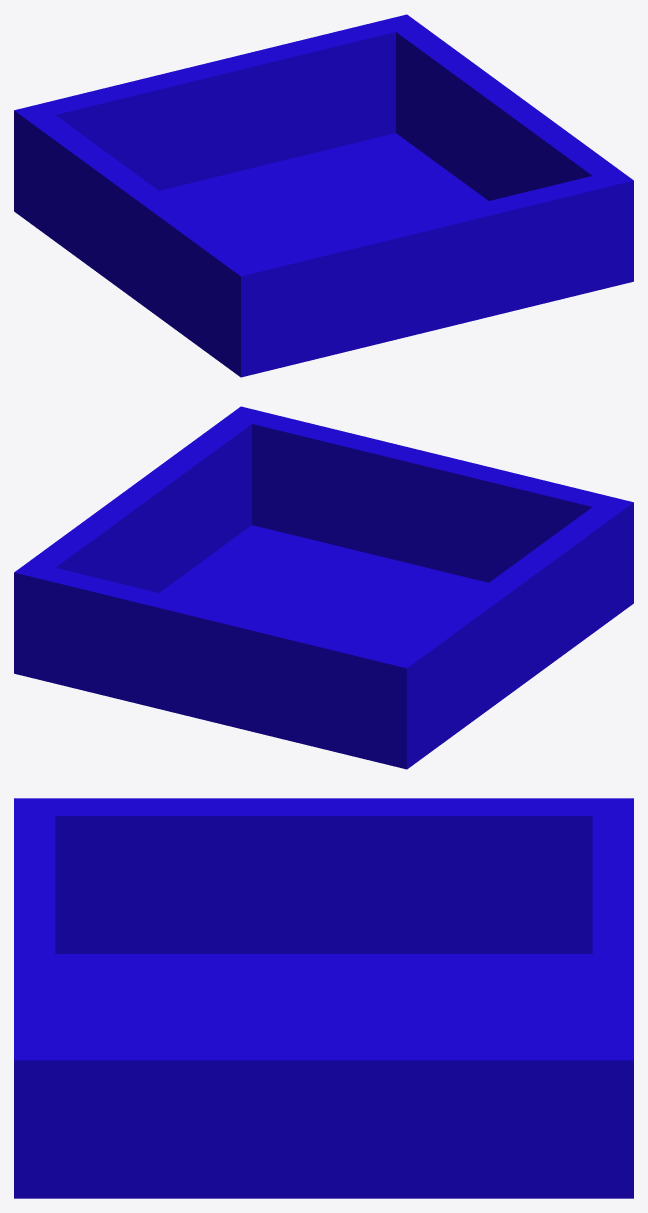
Rendered from RoomStart.glb.
3 views of the same model, one above another, from view 1: azimuth 30°, elevation 25°; view 2: azimuth 150°, elevation 25°; view 3: azimuth 270°, elevation 25° (orthographic). The views are drawn at different scales.
Visible parts, largest first — view 1: Plane; view 2: Plane; view 3: Plane.
Part boxes in pixels (bbox=[...]): Plane: bbox=[14, 14, 633, 377]; Plane: bbox=[14, 406, 633, 769]; Plane: bbox=[14, 798, 633, 1198].
Bounding box in the file's own units: 1 × 0.2458 × 1.
